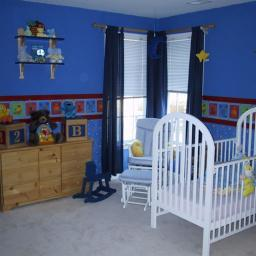Cama: (149, 109, 255, 247)
Otro Obstaculo: (79, 156, 120, 211)
Ventana: (117, 31, 148, 143), (163, 35, 196, 121)
